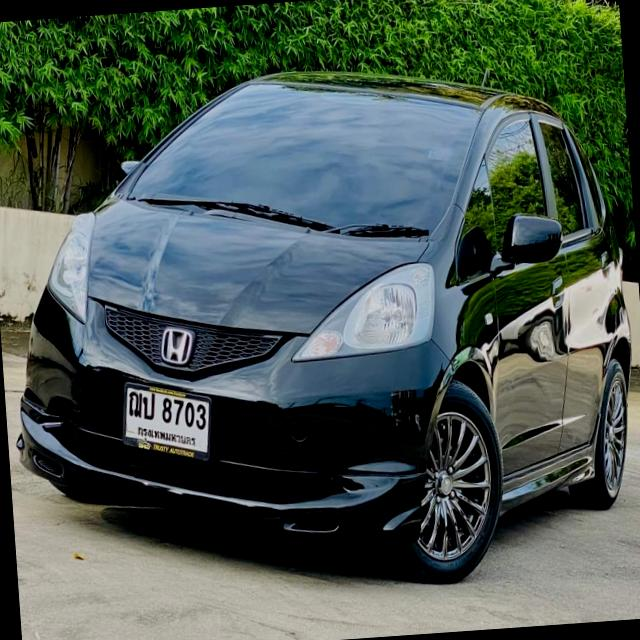license_plate: (115, 370, 218, 471)
